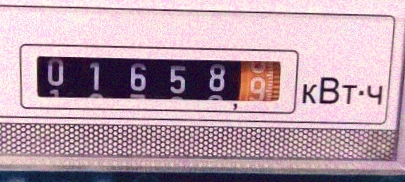0: (44, 55, 65, 87)
1: (88, 60, 101, 91)
5: (168, 62, 187, 95)
6: (128, 60, 148, 92)
8: (207, 61, 226, 93)
9: (246, 74, 265, 100)
screen: (10, 34, 303, 119)
